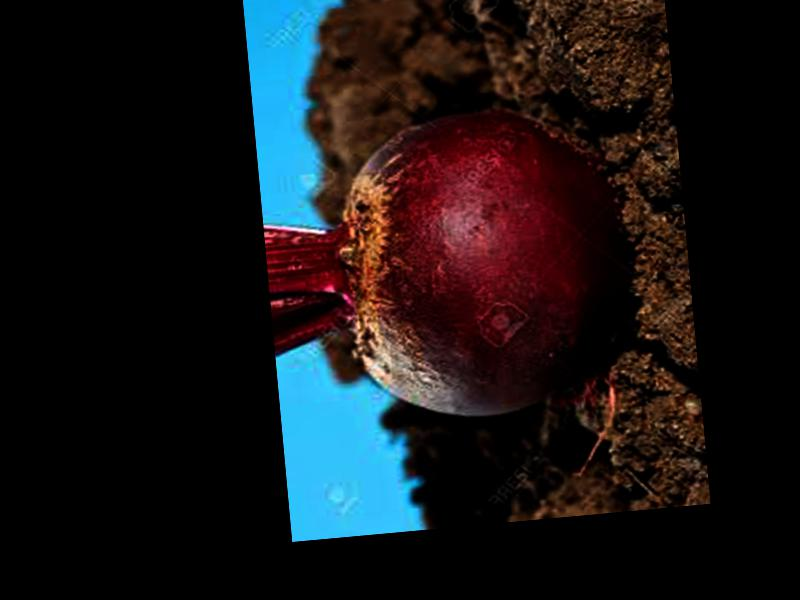Beet: (257, 100, 639, 436)
